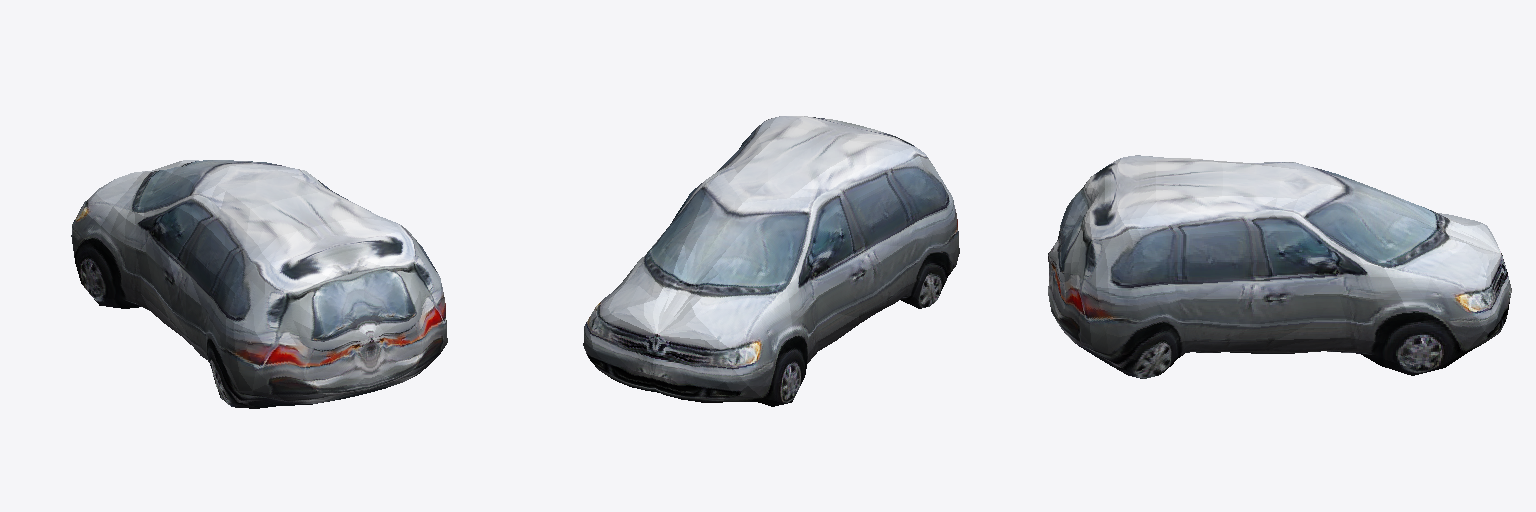
3 renders of one model, left to right at view 1: azimuth 30°, elevation 25°; view 2: azimuth 150°, elevation 25°; view 3: azimuth 270°, elevation 25°, orthographic.
Size of the model in its own units: 0.9928 by 0.6921 by 1.87.
1 materials, 1 textured.